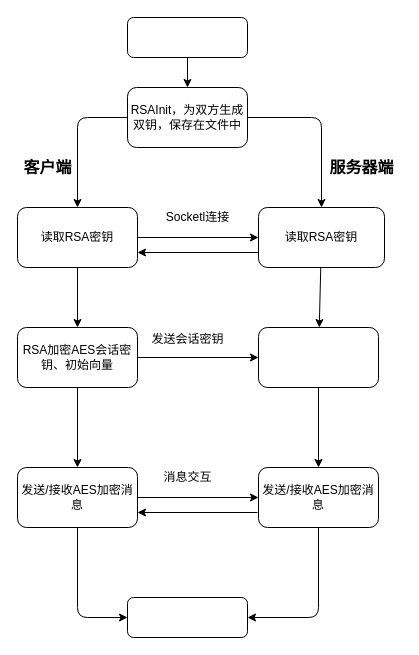
This 419x655 diagram has some shape labels left out. The shapes that lost their labels are listed below. From the top down, each one's box as (x1, y1, x2, y2) in pixels, then its label:
(126, 16, 248, 58): start
(258, 326, 378, 388): 接收会话密钥并保存
(126, 596, 248, 638): end
